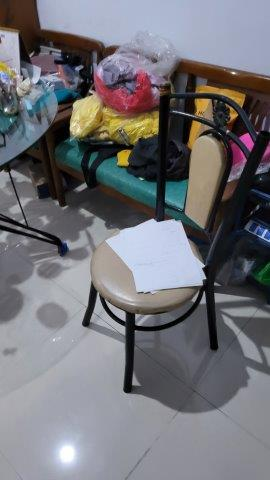kertas: (100, 220, 208, 290)
